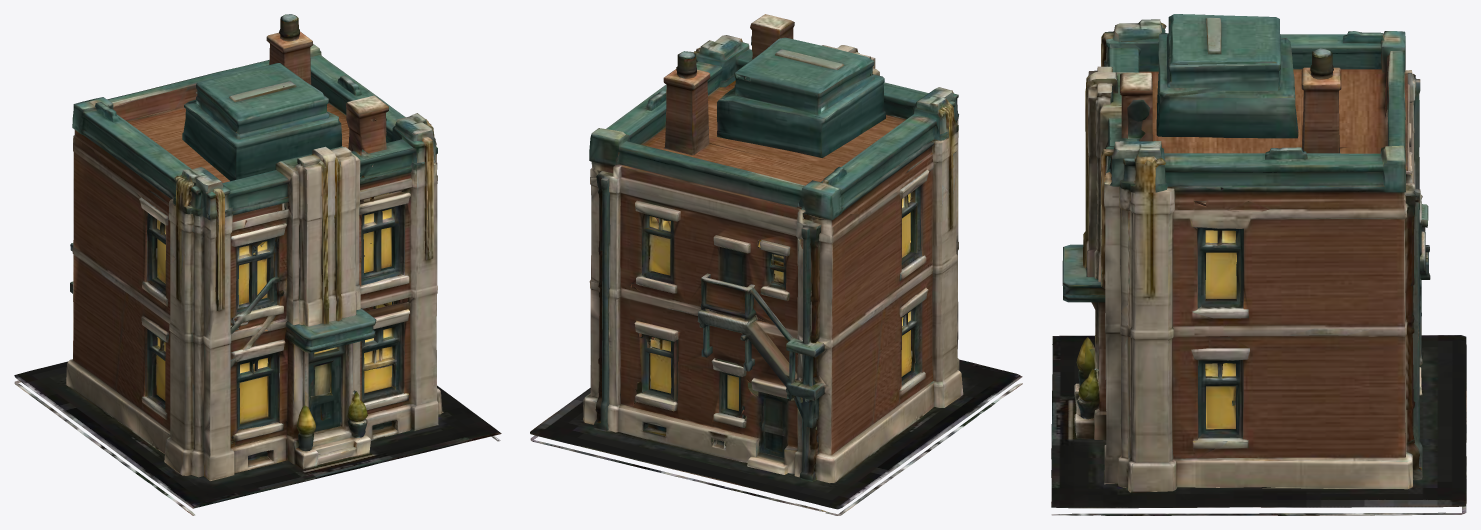
Rendered from candidate.glb.
3 renders of one model, left to right at view 1: azimuth 30°, elevation 25°; view 2: azimuth 150°, elevation 25°; view 3: azimuth 270°, elevation 25°, orthographic. The views are drawn at different scales.
Parts seen in each view (by area): view 1: expansion__tower_2__native_mobile; view 2: expansion__tower_2__native_mobile; view 3: expansion__tower_2__native_mobile.
Part boxes in pixels (x1=…): expansion__tower_2__native_mobile: x1=14, y1=14, x2=501, y2=515; expansion__tower_2__native_mobile: x1=530, y1=14, x2=1022, y2=515; expansion__tower_2__native_mobile: x1=1051, y1=14, x2=1466, y2=515.
Bounding box in the file's own units: 0.8964 × 1 × 0.9132.
1 material, 1 textured.
